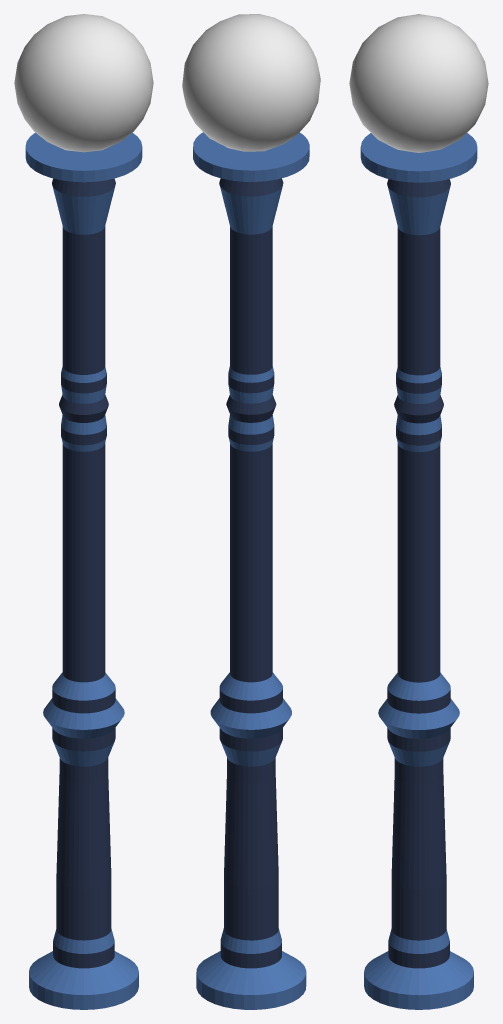
Rendered from LampPostModel01.fbx.
The picture shows the model from 3 angles, left to right: view 1: azimuth 90°, elevation 25°; view 2: azimuth 150°, elevation 25°; view 3: azimuth 270°, elevation 25°; orthographic projection.
Parts seen in each view (by area): view 1: LampPost01; view 2: LampPost01; view 3: LampPost01.
Part boxes in pixels (<box>): LampPost01: <box>14,14,153,1009</box>; LampPost01: <box>182,14,320,1009</box>; LampPost01: <box>349,14,488,1009</box>.
Bounding box in the file's own units: 94.95 × 727 × 94.95.
